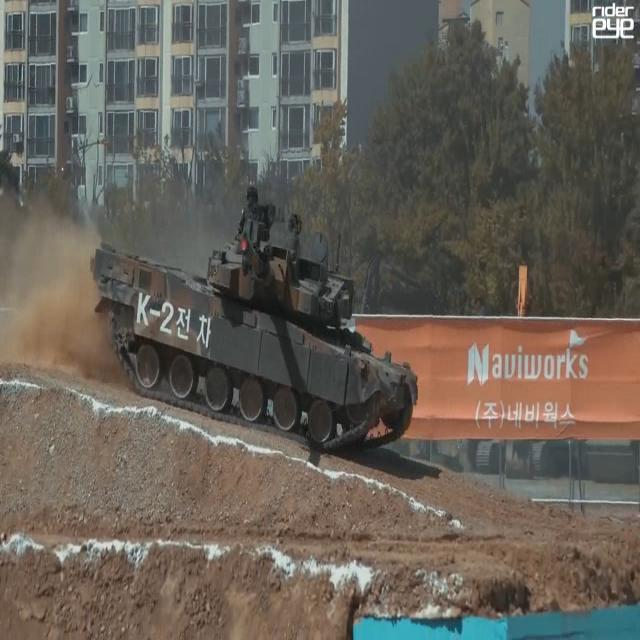korea tank: (88, 183, 422, 452)
